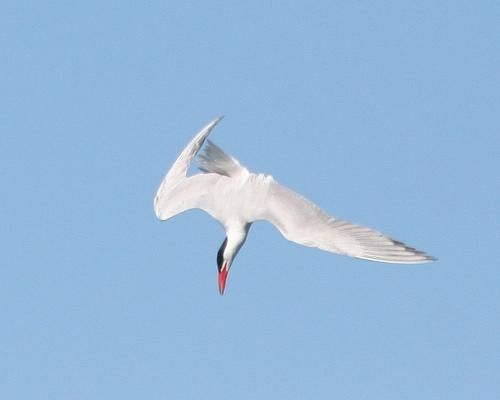bird: (153, 115, 437, 298)
